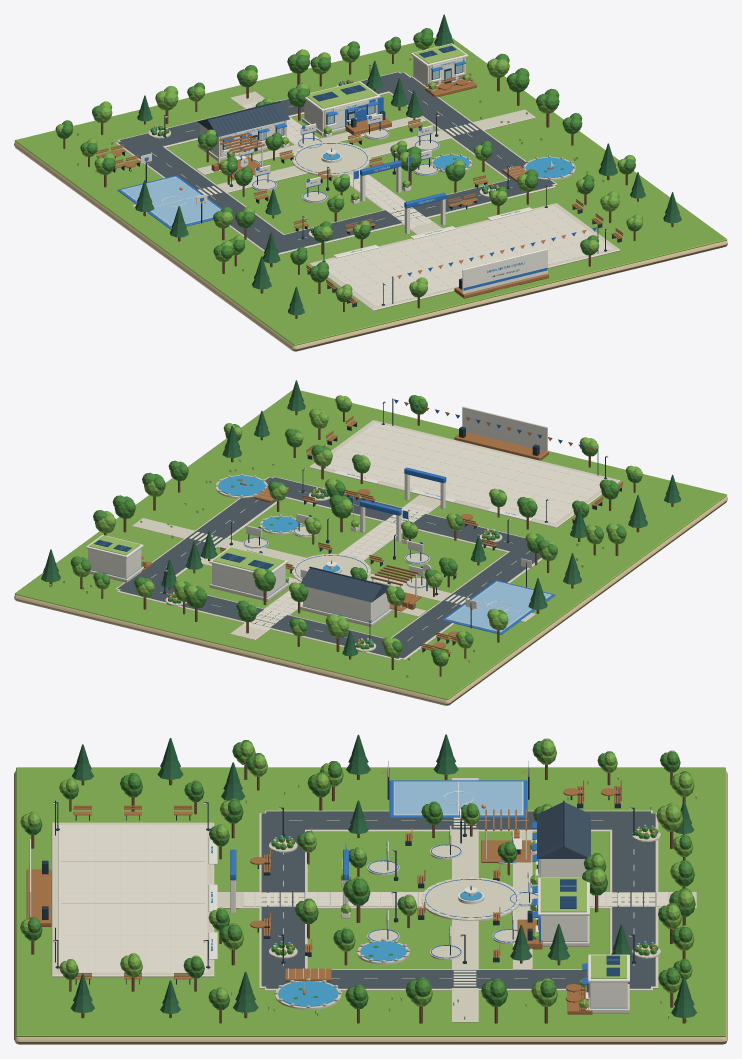
Rendered from world.glb.
3 views of the same model, one above another, from view 1: azimuth 30°, elevation 25°; view 2: azimuth 150°, elevation 25°; view 3: azimuth 270°, elevation 25° (orthographic). The views are drawn at different scales.
Visible parts, largest first — view 1: Campus lawn, Scenery_Paving_light, Scenery_Road_asphalt, Scenery_Path_limestone, Island edge, Scenery_Timber, Building_occluder, Reunion_stage, Building_occluder.001, Scenery_White_plaster, Court playing field, Scenery_Blue_accent (+6 smaller); view 2: Campus lawn, Scenery_Paving_light, Scenery_Road_asphalt, Scenery_Path_limestone, Island edge, Building_occluder, Reunion_stage, Building_occluder.001, Scenery_Timber, Court playing field, Building_occluder.002, Scenery_White_plaster (+8 smaller); view 3: Campus lawn, Scenery_Paving_light, Scenery_Road_asphalt, Scenery_Path_limestone, Island edge, Scenery_Timber, Court playing field, Building_occluder, Building_occluder.001, Central plaza, Reunion Commons, Building_occluder.002 (+31 smaller).
Boxes of the visible parts, x1,y1,x2,y2 form: Campus lawn: [14, 37, 727, 345]; Scenery_Paving_light: [164, 66, 612, 306]; Scenery_Road_asphalt: [118, 72, 554, 252]; Scenery_Path_limestone: [115, 71, 606, 303]; Island edge: [14, 142, 727, 351]; Scenery_Timber: [96, 73, 623, 303]; Building_occluder: [197, 101, 289, 161]; Reunion_stage: [454, 249, 548, 298]; Building_occluder.001: [302, 81, 380, 136]; Scenery_White_plaster: [122, 81, 554, 258]; Court playing field: [121, 176, 220, 227]; Scenery_Blue_accent: [144, 97, 596, 276]; Campus lawn: [15, 390, 726, 699]; Scenery_Paving_light: [165, 402, 610, 630]; Scenery_Road_asphalt: [118, 477, 540, 658]; Scenery_Path_limestone: [115, 425, 598, 660]; Island edge: [14, 496, 727, 705]; Building_occluder: [300, 566, 391, 626]; Reunion_stage: [454, 406, 548, 460]; Building_occluder.001: [209, 546, 288, 601]; Scenery_Timber: [141, 416, 623, 654]; Court playing field: [446, 581, 551, 632]; Building_occluder.002: [86, 535, 143, 582]; Scenery_White_plaster: [141, 470, 550, 631]; Campus lawn: [16, 767, 725, 1036]; Scenery_Paving_light: [53, 802, 667, 972]; Scenery_Road_asphalt: [261, 811, 655, 988]; Scenery_Path_limestone: [61, 778, 696, 1022]; Island edge: [14, 771, 727, 1044]; Scenery_Timber: [73, 780, 621, 1010]; Court playing field: [393, 781, 523, 815]; Building_occluder: [532, 800, 590, 877]; Building_occluder.001: [532, 877, 589, 946]; Central plaza: [421, 877, 521, 921]; Reunion Commons: [51, 822, 214, 977]; Building_occluder.002: [582, 954, 629, 1013].
Bounding box in the file's own units: 51 × 5.02 × 57.
